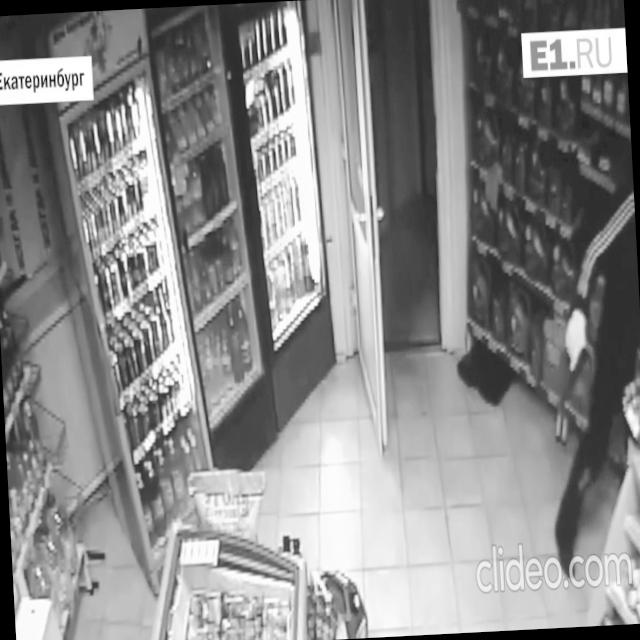gun: (562, 344, 592, 398)
person with a gun: (533, 131, 640, 582)
